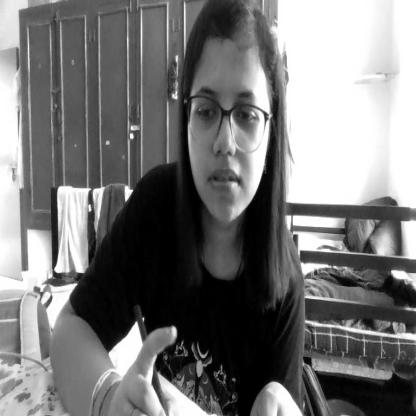Normal: (183, 0, 285, 233)
